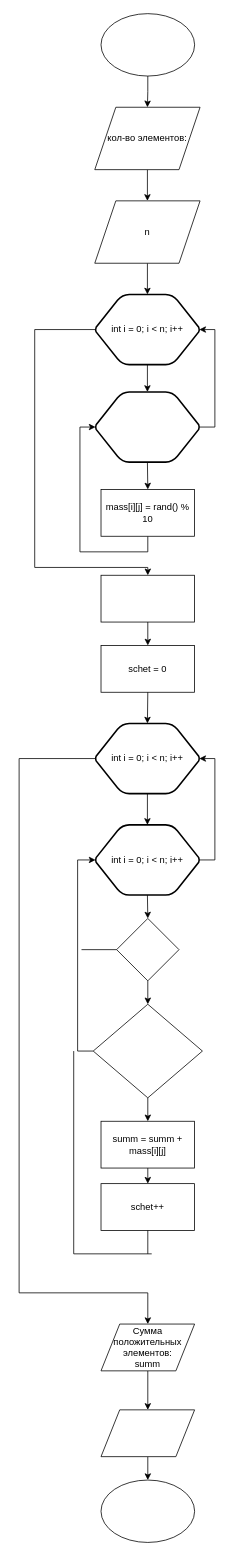
The diagram is 235 pixels wide and 1556 high, and some of its shapes have lost their labels. Each missing label, with the box of its shape:
i < j: (116, 918, 179, 981)
int j= 0; j < n; i++: (94, 391, 200, 463)
mass[i][j] % 2 == 0: (92, 1003, 202, 1098)
summ = 0: (100, 574, 195, 622)
Кол-во положительных элементов: schet: (100, 1409, 195, 1457)
